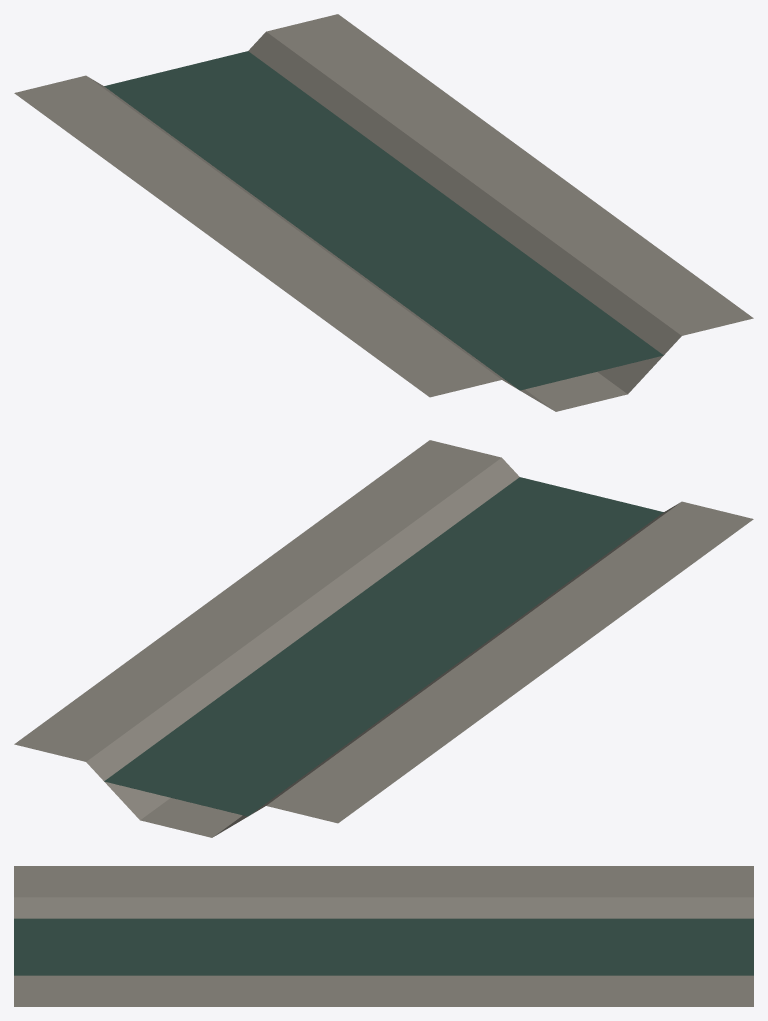
File: tf_canal_lateral_5m.glb
The picture shows the model from 3 angles, top to bottom: view 1: azimuth 30°, elevation 25°; view 2: azimuth 150°, elevation 25°; view 3: azimuth 270°, elevation 25°; orthographic projection. The views are drawn at different scales.
Visible parts, largest first — view 1: tf_canal_lateral_5m; view 2: tf_canal_lateral_5m; view 3: tf_canal_lateral_5m.
Boxes of the visible parts, <box> form: tf_canal_lateral_5m: <box>14,14,753,411</box>; tf_canal_lateral_5m: <box>14,440,753,837</box>; tf_canal_lateral_5m: <box>14,866,753,1006</box>.
Size of what is drawn, in the model's own units: 9 by 1.2 by 20.
